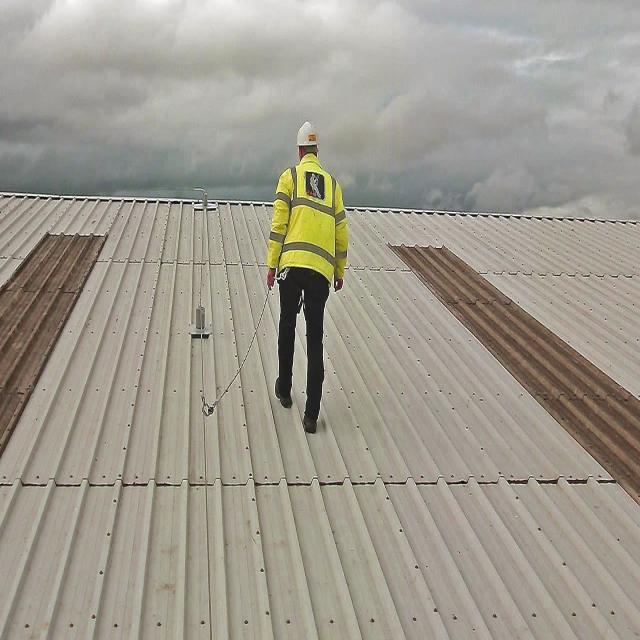head_helmet: (297, 120, 319, 146)
person: (263, 126, 349, 434)
shoes: (299, 398, 322, 440), (274, 374, 296, 411)
vest: (266, 157, 346, 281)
